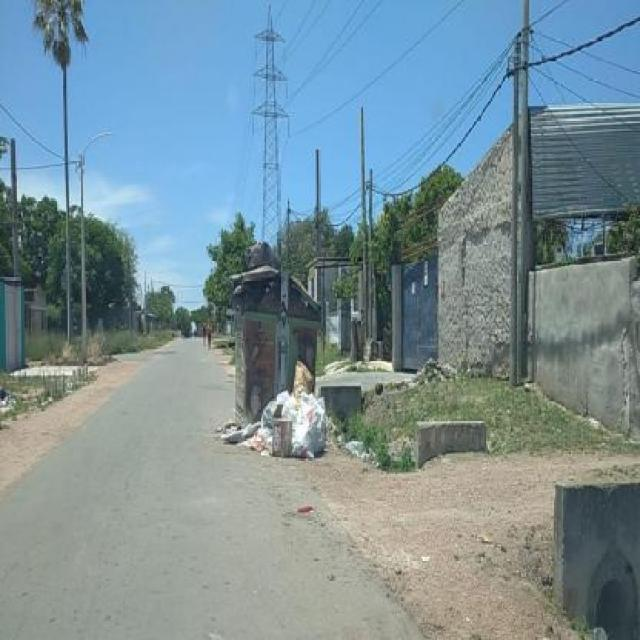garbage: (235, 352, 318, 463), (216, 243, 317, 294)
